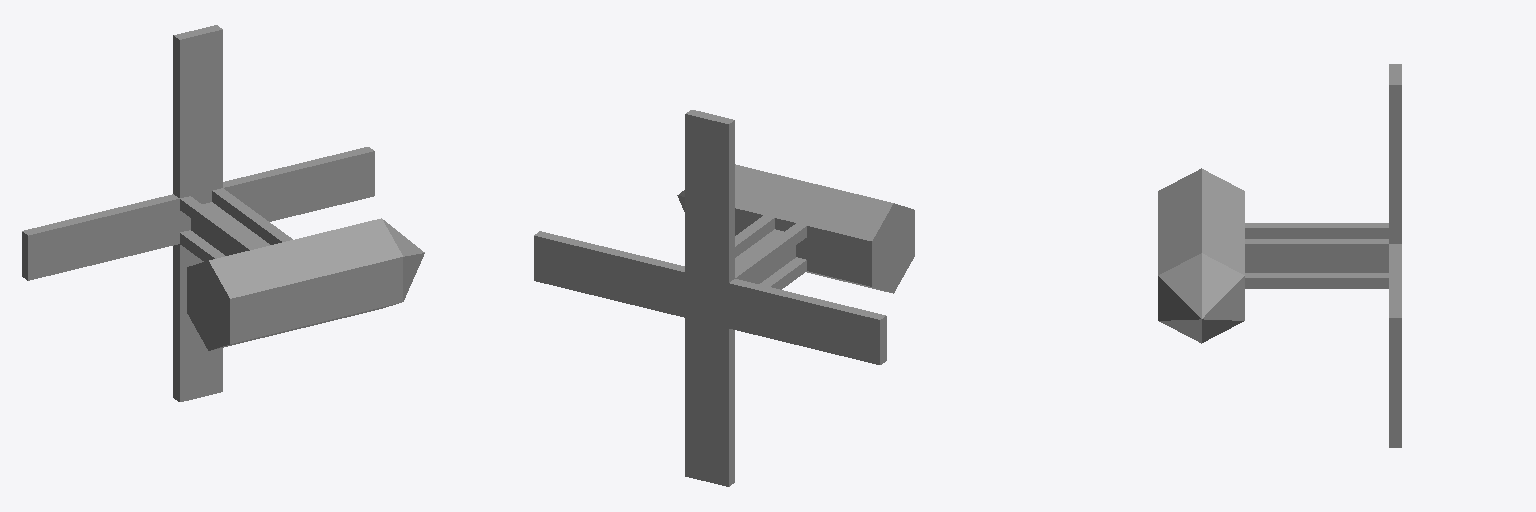
Rendered from crystal.obj.
3 renders of one model, left to right at view 1: azimuth 30°, elevation 25°; view 2: azimuth 150°, elevation 25°; view 3: azimuth 270°, elevation 25°, orthographic.
Visible parts, largest first — view 1: OBJECT_Circle.002; view 2: OBJECT_Circle.002; view 3: OBJECT_Circle.002.
Part boxes in pixels (bbox=[...]): OBJECT_Circle.002: bbox=[22, 25, 424, 401]; OBJECT_Circle.002: bbox=[534, 110, 914, 486]; OBJECT_Circle.002: bbox=[1158, 64, 1401, 447].
Bounding box in the file's own units: 1 × 1 × 0.6083.